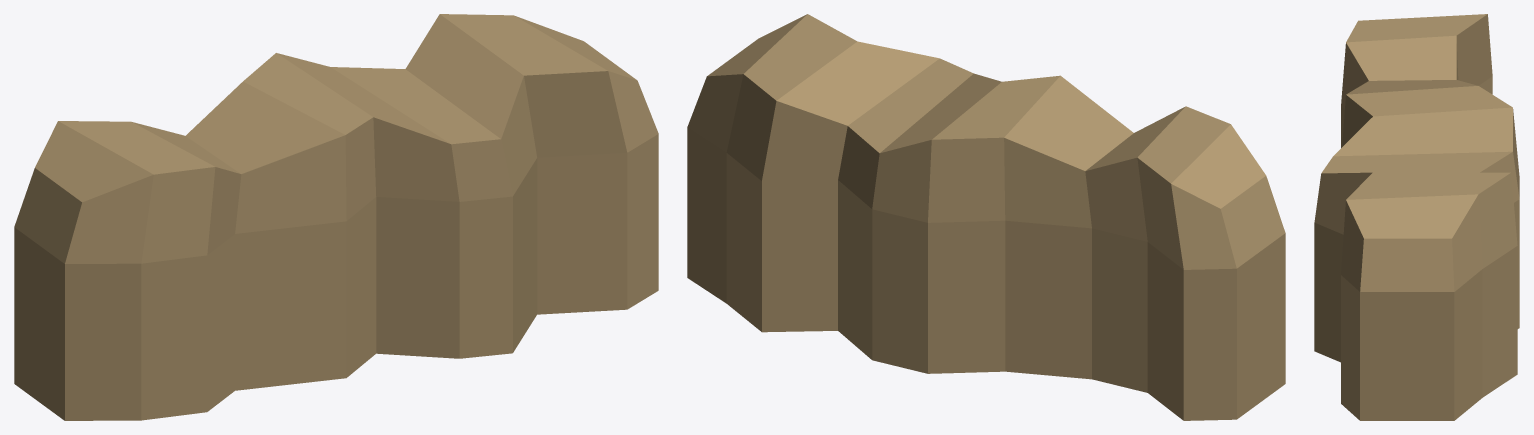
File: Cliff_002.gltf
The picture shows the model from 3 angles, left to right: view 1: azimuth 30°, elevation 25°; view 2: azimuth 150°, elevation 25°; view 3: azimuth 270°, elevation 25°; orthographic projection. The views are drawn at different scales.
Parts seen in each view (by area): view 1: Cliff.002-col; view 2: Cliff.002-col; view 3: Cliff.002-col.
Part boxes in pixels (x1,y1,x2,y2): Cliff.002-col: [14, 14, 658, 420]; Cliff.002-col: [687, 14, 1285, 420]; Cliff.002-col: [1314, 14, 1519, 420].
Bounding box in the file's own units: 15.91 × 6.31 × 5.94.
